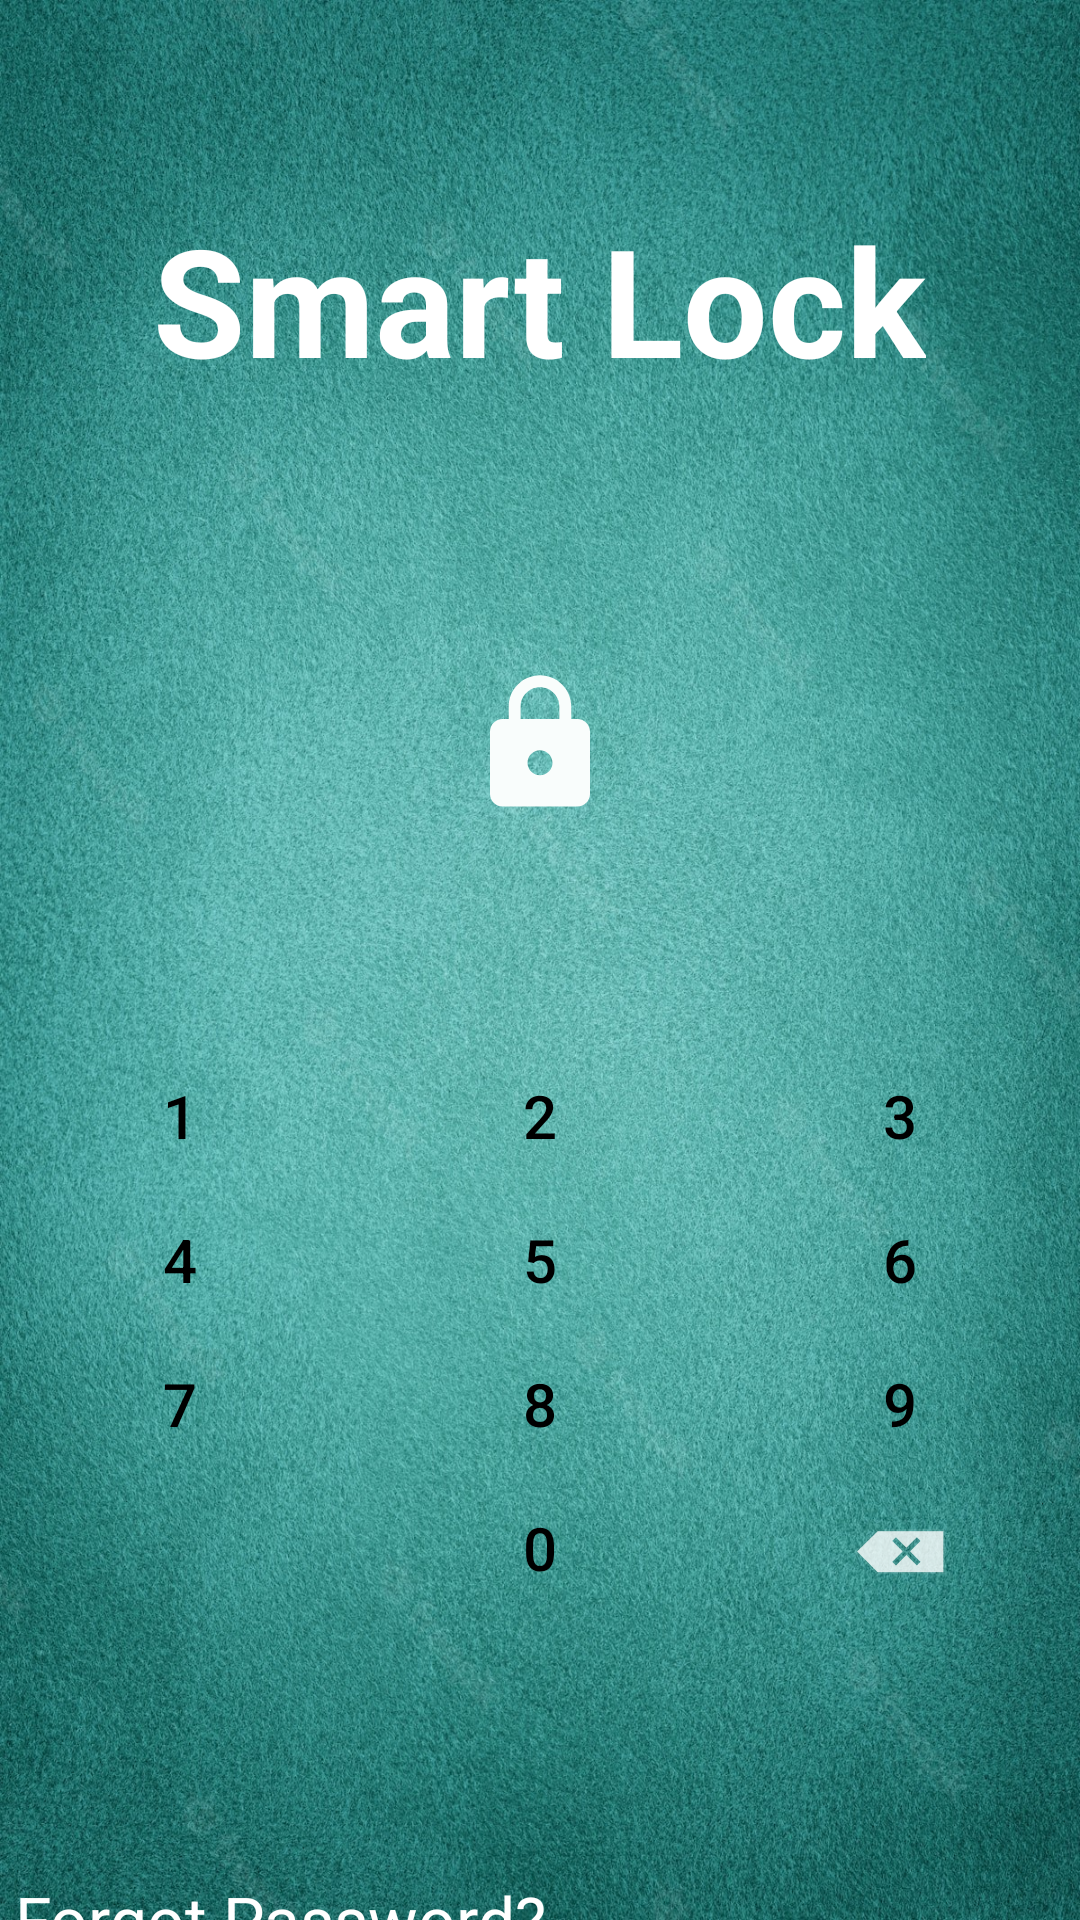

Point at icon controls on the screen. Image size 1080*1920, points as (x=x, y=y).
lock: (x=540, y=744)
